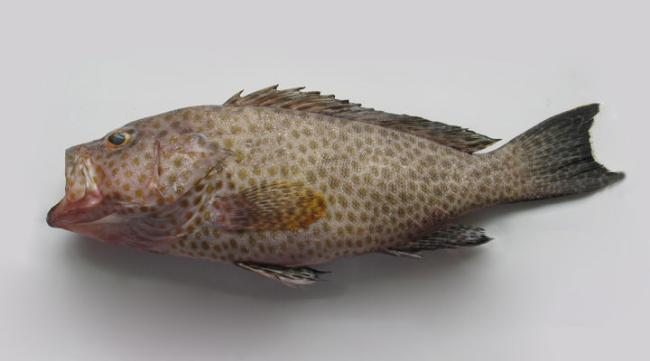fish: (46, 84, 626, 289)
